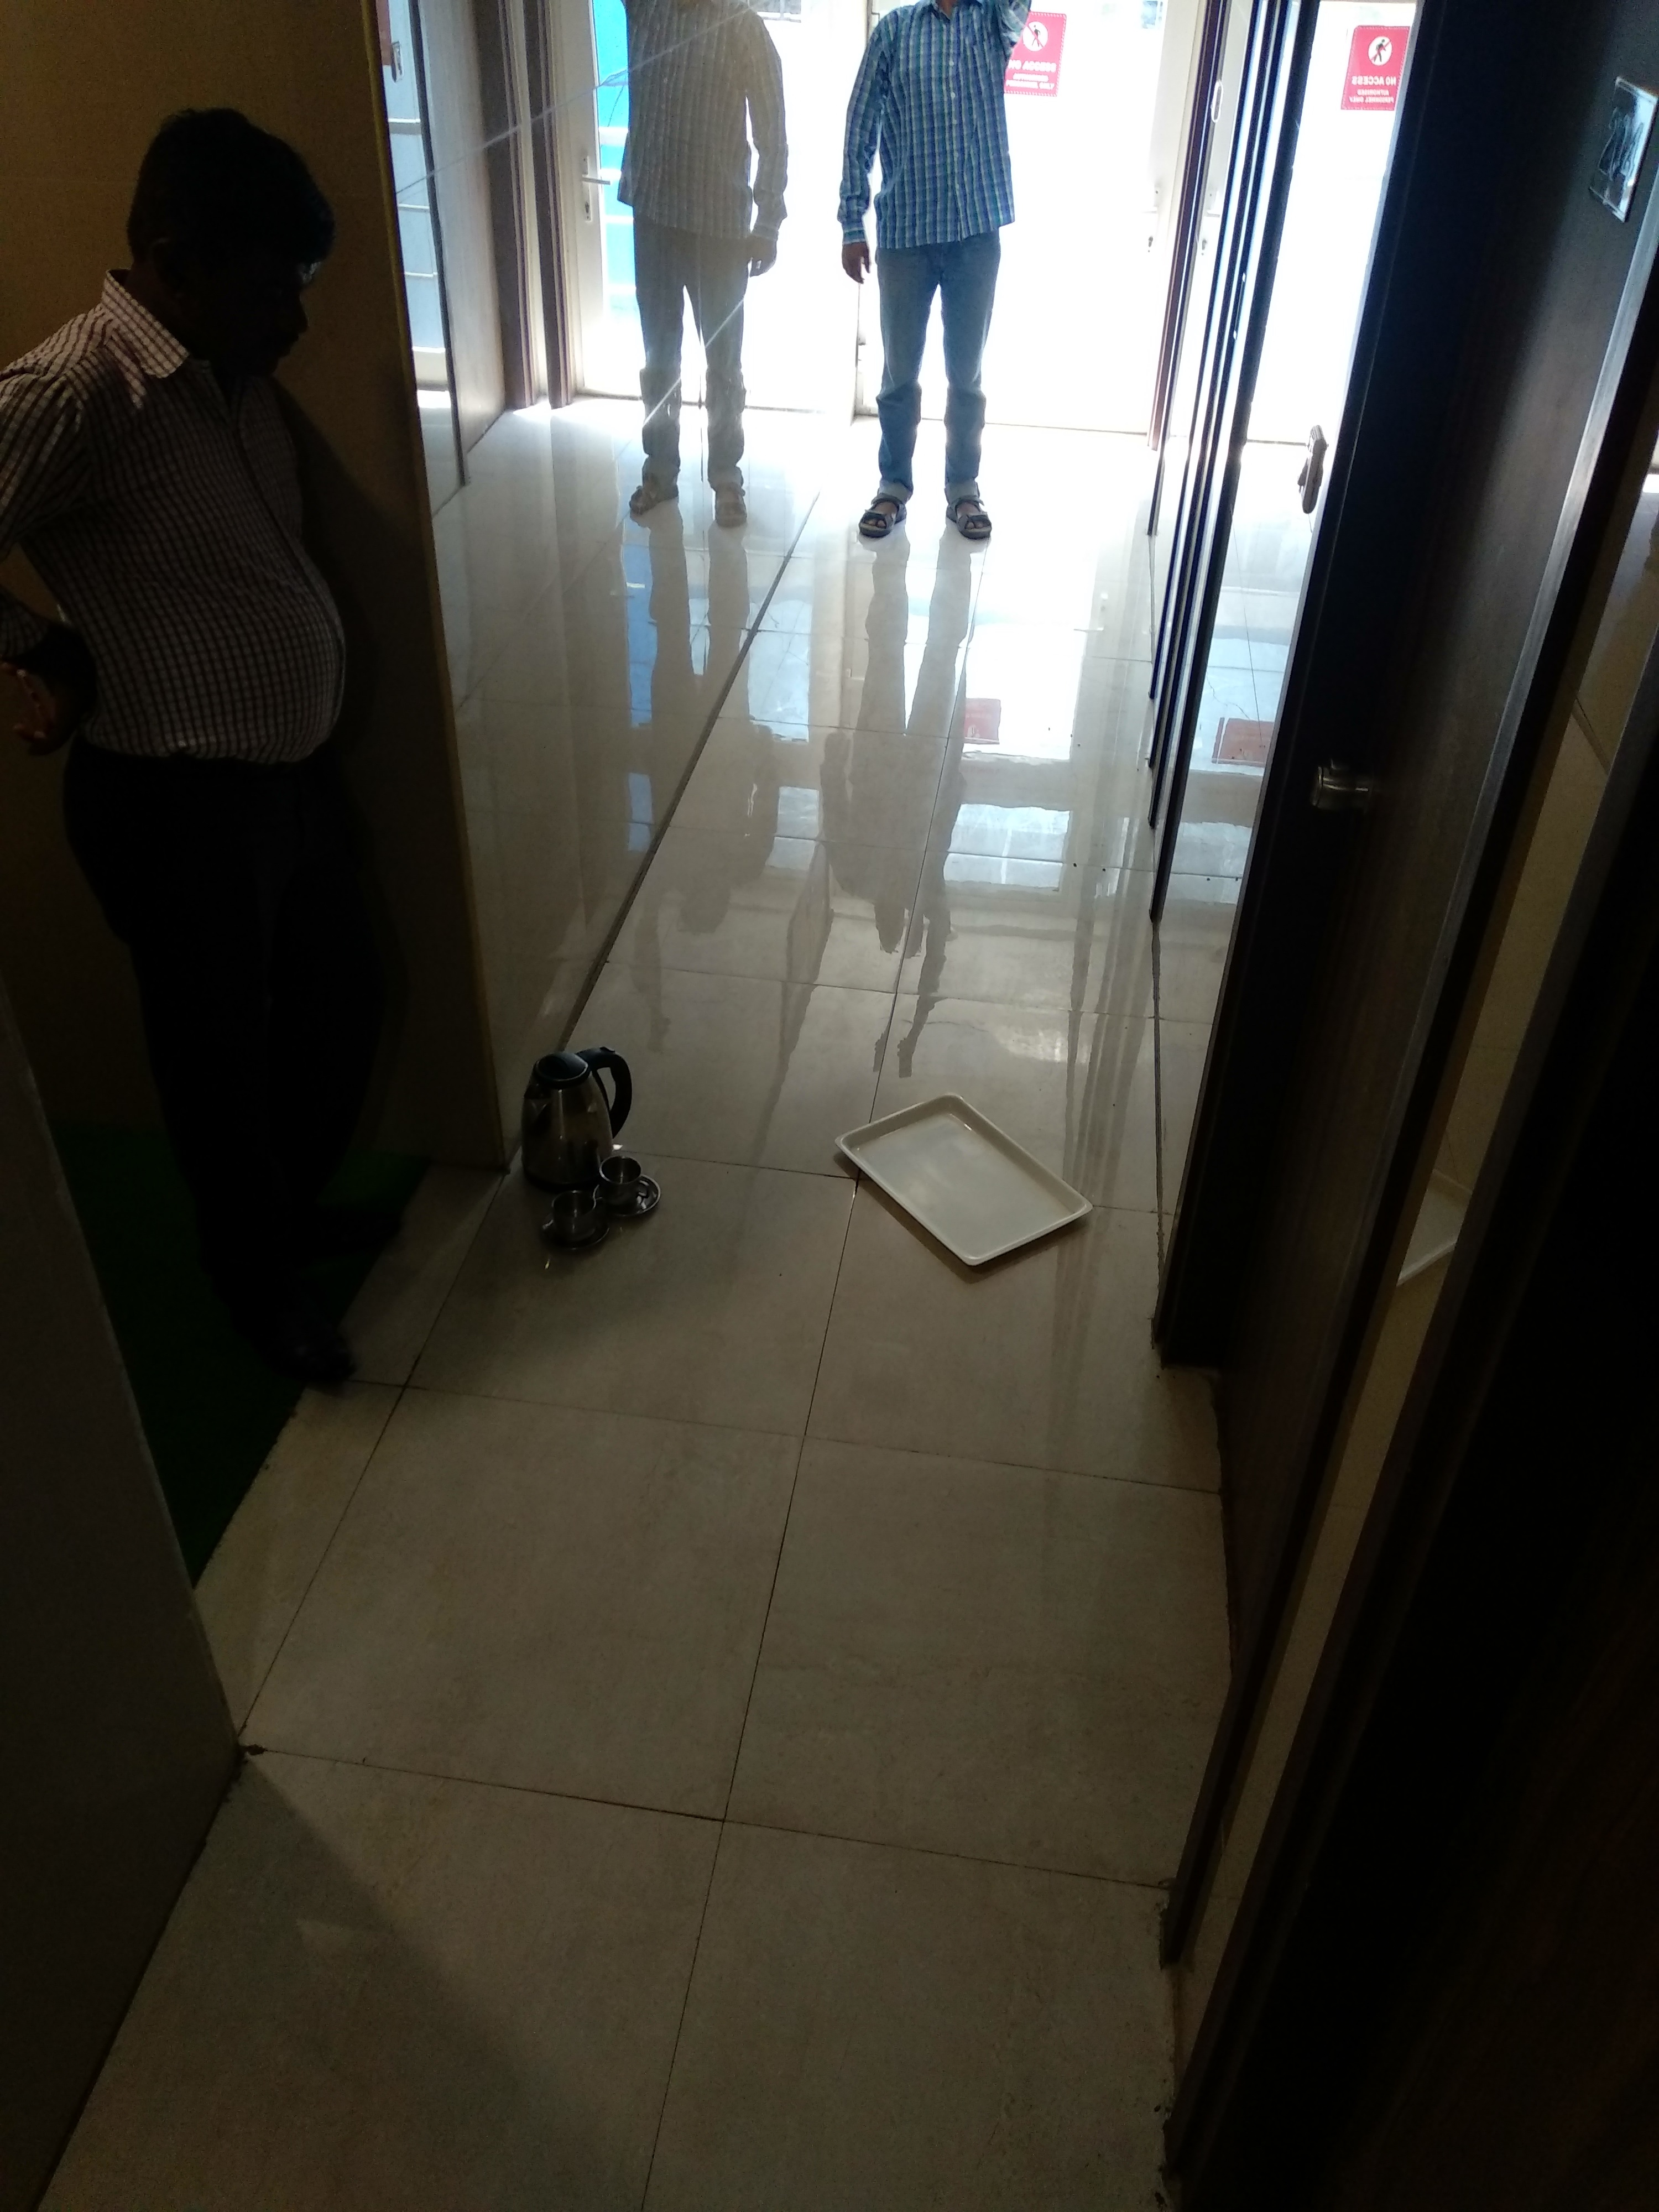CUP: (549, 1188, 598, 1247), (599, 1155, 645, 1207)
JUG: (525, 1042, 631, 1146)
